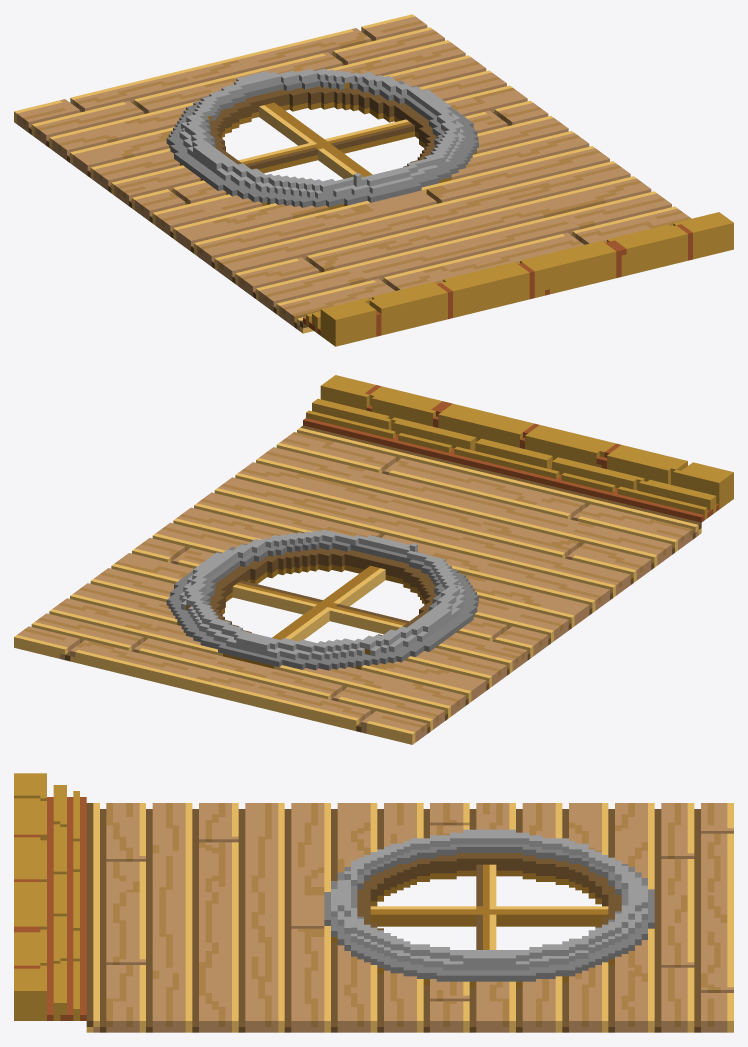
The model's file is ship-1.obj.
3 views of the same model, one above another, from view 1: azimuth 30°, elevation 25°; view 2: azimuth 150°, elevation 25°; view 3: azimuth 270°, elevation 25° (orthographic). The views are drawn at different scales.
Bounding box in the file's own units: 7.8 × 0.7 × 10.9.
Materials: 1 (1 with a texture image).
